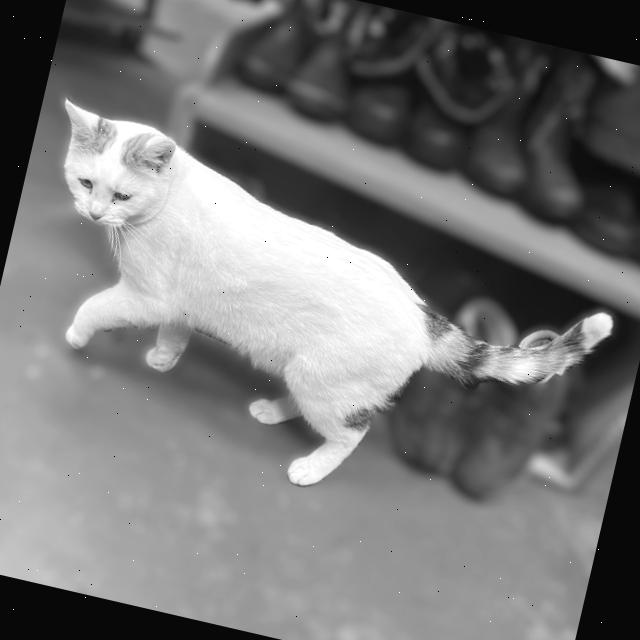calico_cat: (28, 86, 205, 262)
